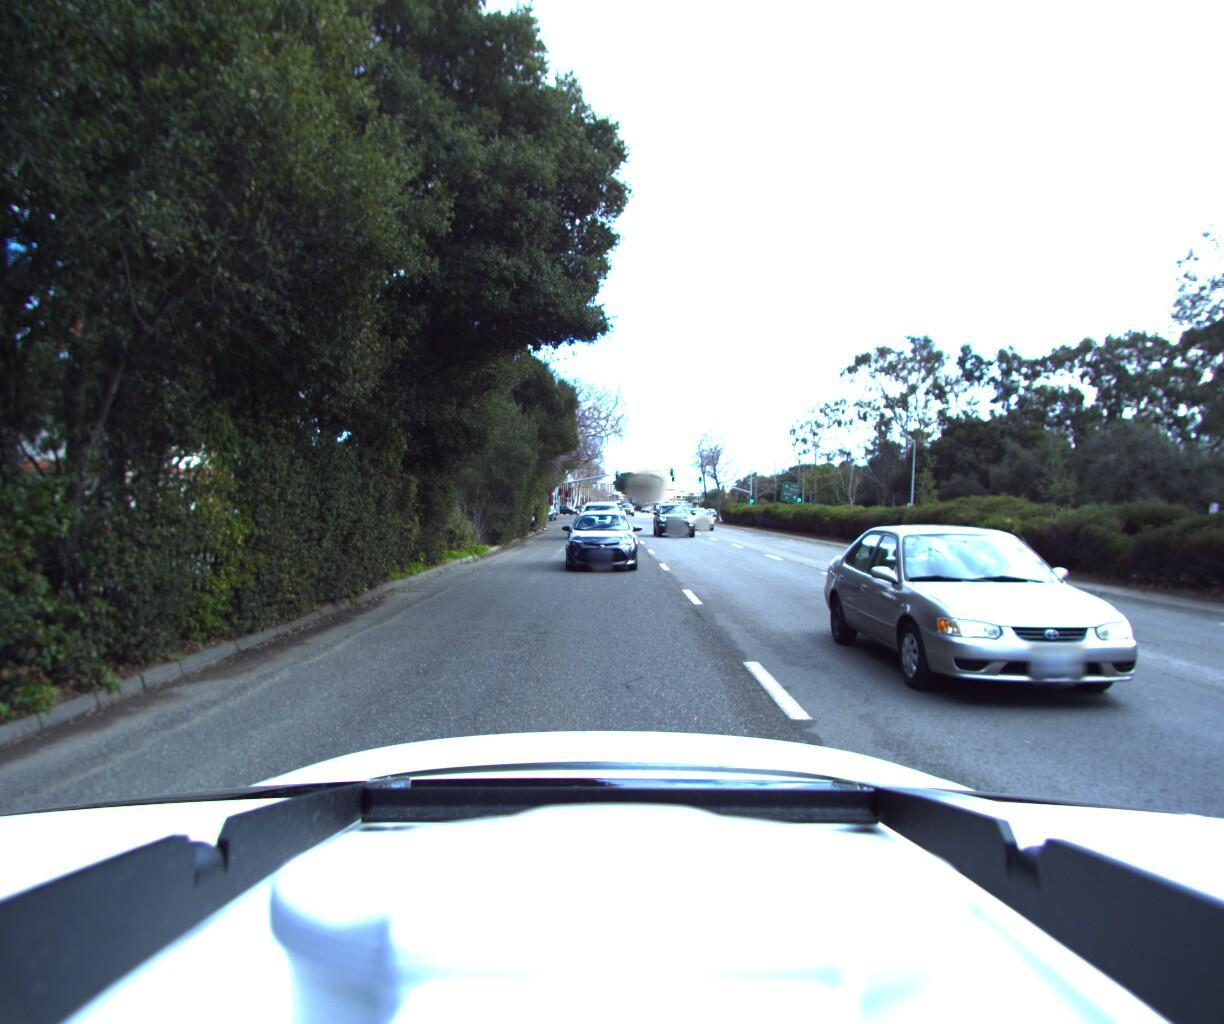car: (836, 517, 1224, 785), (561, 513, 641, 579), (653, 507, 701, 545), (579, 505, 624, 545), (670, 501, 703, 529), (686, 513, 724, 537)
